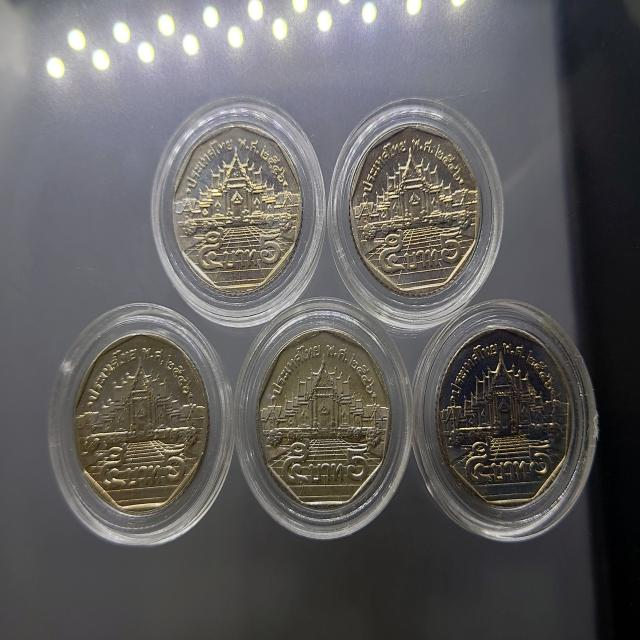5 Bath: (255, 325, 396, 513), (436, 323, 576, 510), (72, 330, 211, 518), (348, 121, 486, 302), (170, 121, 306, 296)
